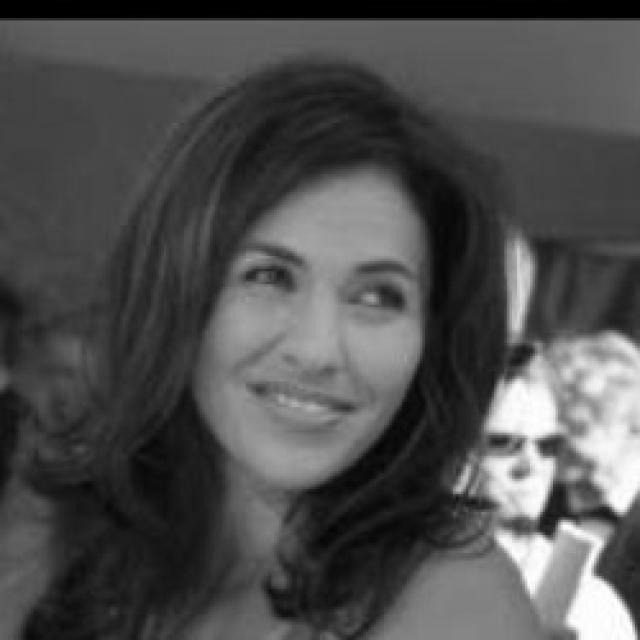real: (172, 77, 462, 512), (232, 251, 417, 323)
